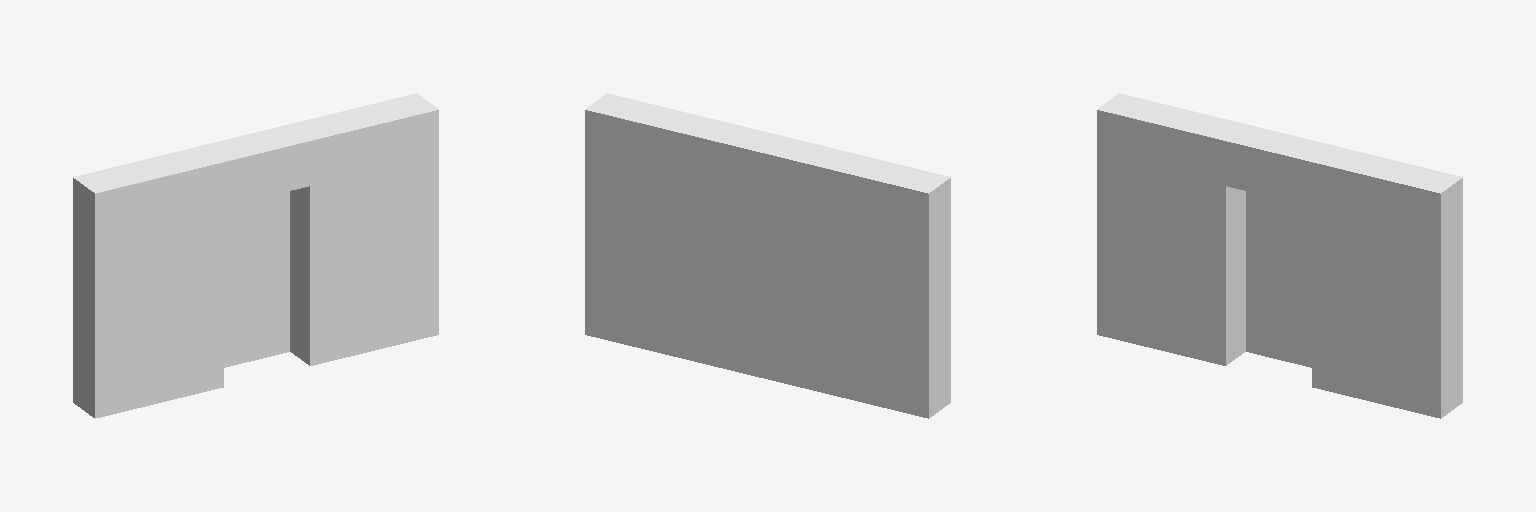
Rendered from door1.obj.
3 renders of one model, left to right at view 1: azimuth 30°, elevation 25°; view 2: azimuth 150°, elevation 25°; view 3: azimuth 330°, elevation 25°, orthographic.
Visible parts, largest first — view 1: building-door.001; view 2: building-door.001; view 3: building-door.001.
Boxes of the visible parts, <box> form: building-door.001: <box>73,93,438,418</box>; building-door.001: <box>585,93,950,418</box>; building-door.001: <box>1097,93,1462,418</box>.
Bounding box in the file's own units: 1 × 0.625 × 0.113.